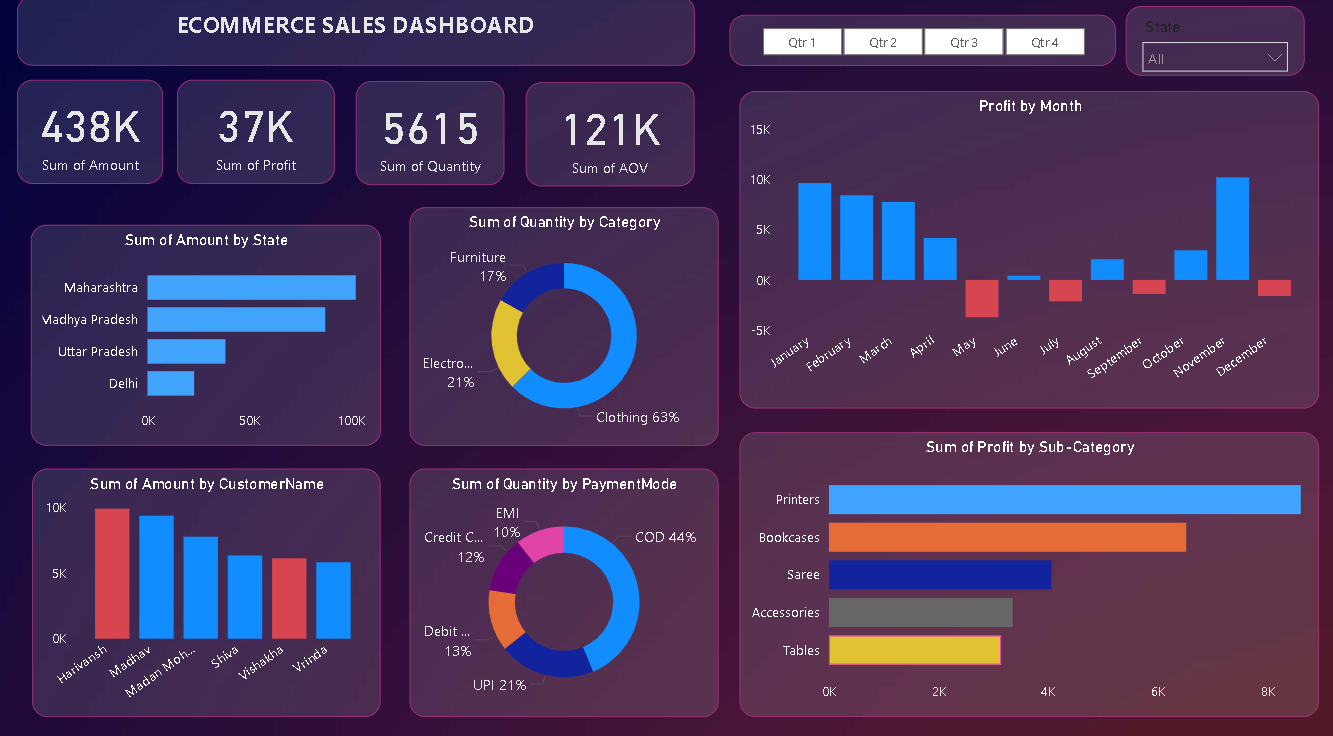

What the dashboard file says about the page in this screenshot:
{"tool":"powerbi","page":{"name":"Page 1","canvas":[1280,720],"ordinal":0},"visuals":[{"type":"textbox","box":[19,0,645.2,66.7],"z":0},{"type":"columnChart","title":" Profit by Month","fields":{"Category":["Orders.Order Date.Variation.Date Hierarchy.Month"],"Y":["Sum(Details.Profit)"]},"box":[707.1,90.5,552.4,302.4],"z":1000},{"type":"barChart","fields":{"Category":["Details.Sub-Category"],"Y":["Sum(Details.Profit)"]},"box":[707.1,415.5,552.4,271.4],"z":2000},{"type":"donutChart","fields":{"Category":["Details.PaymentMode"],"Y":["Sum(Details.Quantity)"]},"box":[392.9,450,294,236.9],"z":3000},{"type":"donutChart","fields":{"Category":["Details.Category"],"Y":["Sum(Details.Quantity)"]},"box":[392.9,201.2,294,227.4],"z":4000},{"type":"card","fields":{"Values":["Sum(Details.Amount)"]},"box":[19,79.8,139.3,98.8],"z":5000},{"type":"card","fields":{"Values":["Sum(Details.Quantity)"]},"box":[341.7,81,141.7,98.8],"z":6000},{"type":"card","fields":{"Values":["Sum(Details.Profit)"]},"box":[171.4,79.8,150,98.8],"z":7000},{"type":"card","fields":{"Values":["Sum(Details.AOV)"]},"box":[503.6,82.1,160.7,98.8],"z":8000},{"type":"barChart","fields":{"Category":["Orders.State"],"Y":["Sum(Details.Amount)"]},"box":[32.1,217.9,333.3,210.7],"z":9000},{"type":"columnChart","fields":{"Category":["Orders.CustomerName"],"Y":["Sum(Details.Amount)"]},"box":[33.3,450,332.1,236.9],"z":10000},{"type":"slicer","fields":{"Values":["Orders.Order Date.Variation.Date Hierarchy.Quarter"]},"box":[697.6,17.9,367.9,48.8],"z":11000},{"type":"slicer","fields":{"Values":["Orders.State"]},"box":[1075,9.5,170.2,66.7],"z":12000}]}

Visuals, with their boxes in screenshot pixels (x1, y1, x2, y2), scaled from the page's 1280x720 canvas onto the 1333x736 screenshot:
textbox: <bbox>20, 0, 692, 68</bbox>
" Profit by Month" columnChart: <bbox>736, 93, 1312, 402</bbox>
barChart - Details.Sub-Category x Sum(Details.Profit): <bbox>736, 425, 1312, 702</bbox>
donutChart - Details.PaymentMode x Sum(Details.Quantity): <bbox>409, 460, 715, 702</bbox>
donutChart - Details.Category x Sum(Details.Quantity): <bbox>409, 206, 715, 438</bbox>
card - Sum(Details.Amount): <bbox>20, 82, 165, 183</bbox>
card - Sum(Details.Quantity): <bbox>356, 83, 503, 184</bbox>
card - Sum(Details.Profit): <bbox>178, 82, 335, 183</bbox>
card - Sum(Details.AOV): <bbox>524, 84, 692, 185</bbox>
barChart - Orders.State x Sum(Details.Amount): <bbox>33, 223, 381, 438</bbox>
columnChart - Orders.CustomerName x Sum(Details.Amount): <bbox>35, 460, 381, 702</bbox>
slicer - Orders.Order Date.Variation.Date Hierarchy.Quarter: <bbox>726, 18, 1110, 68</bbox>
slicer - Orders.State: <bbox>1120, 10, 1297, 78</bbox>
